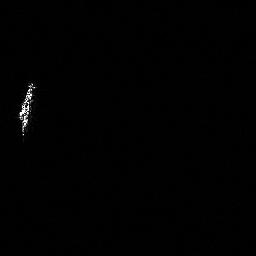ship: (13, 78, 40, 139)
